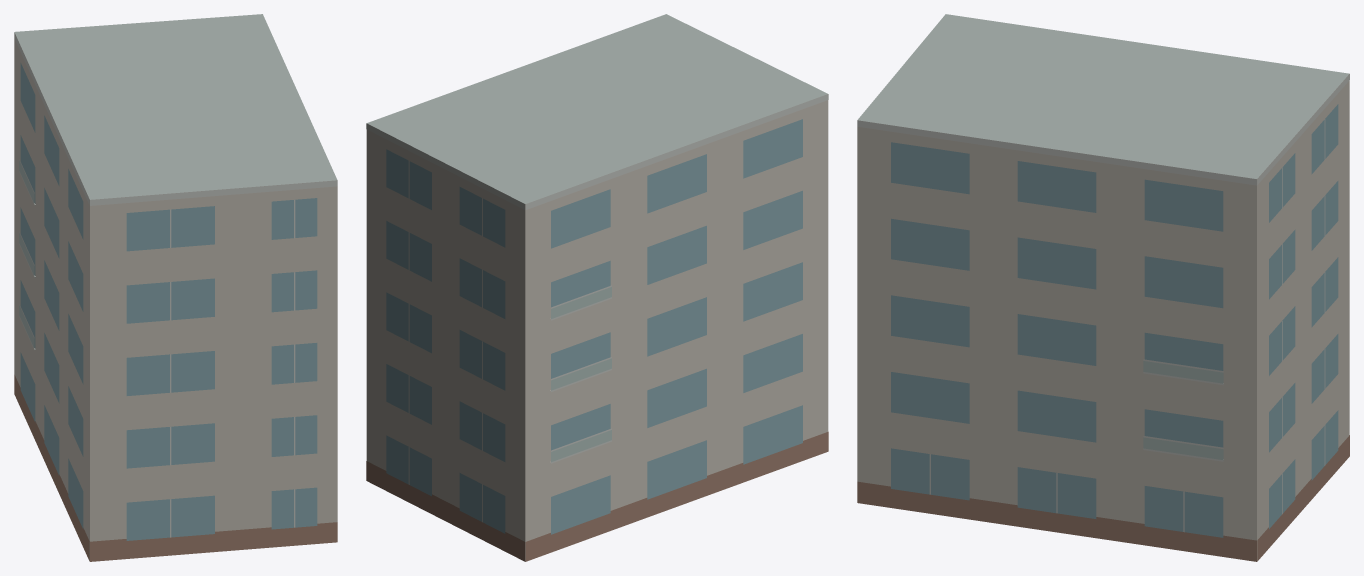
The model's file is survey-upis-32885146.glb.
The picture shows the model from 3 angles, left to right: view 1: azimuth 30°, elevation 25°; view 2: azimuth 150°, elevation 25°; view 3: azimuth 270°, elevation 25°; orthographic projection. The views are drawn at different scales.
Parts seen in each view (by area): view 1: survey-upis-32885146.tmp; view 2: survey-upis-32885146.tmp; view 3: survey-upis-32885146.tmp.
Boxes of the visible parts, x1,y1,x2,y2 form: survey-upis-32885146.tmp: (14, 14, 337, 561); survey-upis-32885146.tmp: (366, 14, 828, 561); survey-upis-32885146.tmp: (857, 14, 1349, 561).
Size of the model in its own units: 13.39 by 14.46 by 16.88.
